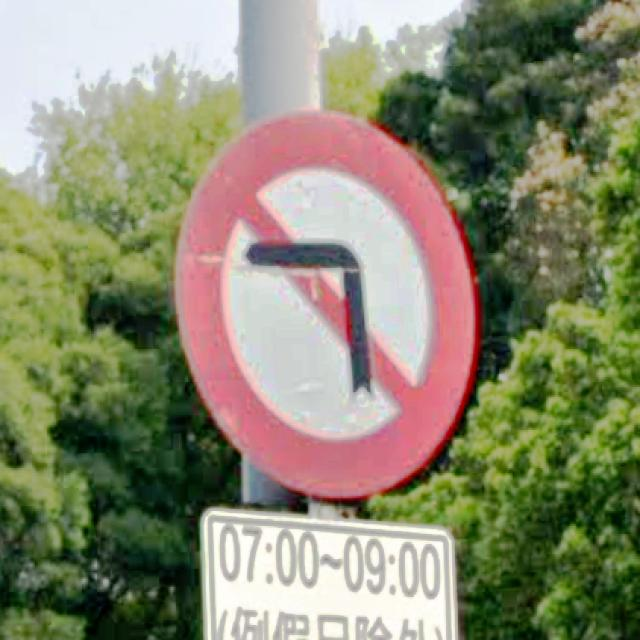noturnleft: (171, 104, 481, 500)
